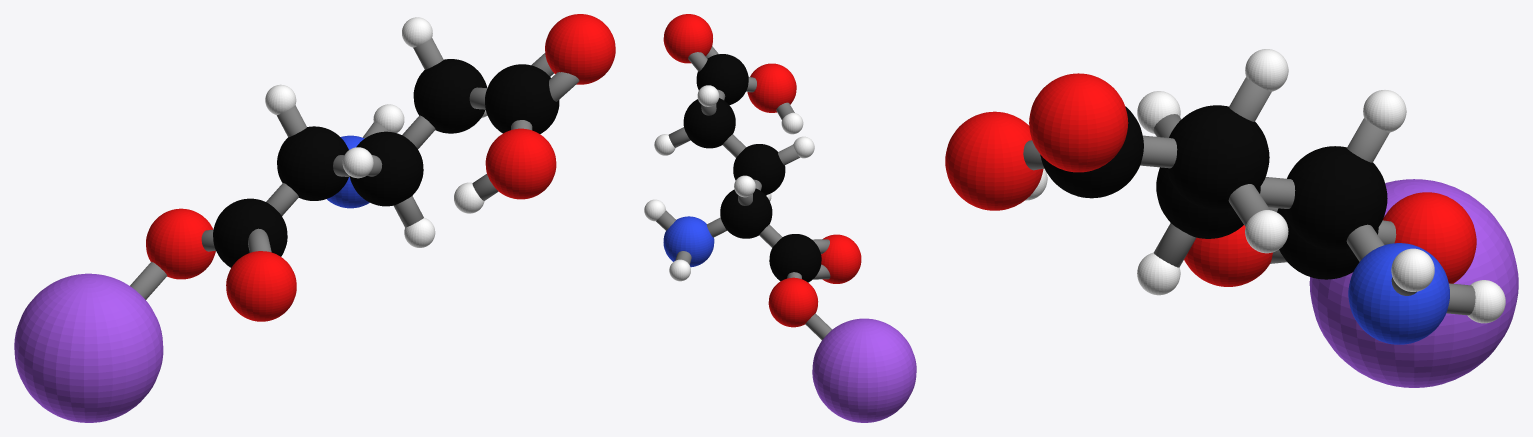
Rendered from GLUTAMATO MONOSODICO.obj.
3 renders of one model, left to right at view 1: azimuth 30°, elevation 25°; view 2: azimuth 150°, elevation 25°; view 3: azimuth 270°, elevation 25°, orthographic. The views are drawn at different scales.
Parts seen in each view (by area): view 1: Carbon_ball_Sphere.003, Sodium_ball_Sphere.004, Oxygen_ball_Sphere, Hydrogen_ball_Sphere.001, Nitrogen_ball_Sphere.002, Stick_Cylinder.008_Cylinder.008, Stick_Cylinder.010_Cylinder.010, Stick_Cylinder.019_Cylinder.019, Stick_Cylinder.007_Cylinder.007, Stick_Cylinder.012_Cylinder.012, Stick_Cylinder.015_Cylinder.015, Stick_Cylinder.017_Cylinder.017; view 2: Carbon_ball_Sphere.003, Sodium_ball_Sphere.004, Oxygen_ball_Sphere, Hydrogen_ball_Sphere.001, Nitrogen_ball_Sphere.002, Stick_Cylinder.008_Cylinder.008, Stick_Cylinder.010_Cylinder.010, Stick_Cylinder.007_Cylinder.007, Stick_Cylinder.016_Cylinder.016, Stick_Cylinder.011_Cylinder.011; view 3: Carbon_ball_Sphere.003, Oxygen_ball_Sphere, Sodium_ball_Sphere.004, Hydrogen_ball_Sphere.001, Nitrogen_ball_Sphere.002, Stick_Cylinder.012_Cylinder.012, Stick_Cylinder.015_Cylinder.015, Stick_Cylinder.017_Cylinder.017, Stick_Cylinder.014_Cylinder.014, Stick_Cylinder.016_Cylinder.016, Stick_Cylinder.013_Cylinder.013, Stick_Cylinder.003_Cylinder.003 (+1 smaller).
Part boxes in pixels (left/top/right/bottom): Carbon_ball_Sphere.003: left=213, top=59, right=559, bottom=267; Sodium_ball_Sphere.004: left=14, top=273, right=163, bottom=422; Oxygen_ball_Sphere: left=146, top=14, right=615, bottom=321; Hydrogen_ball_Sphere.001: left=265, top=17, right=487, bottom=247; Nitrogen_ball_Sphere.002: left=327, top=135, right=369, bottom=208; Stick_Cylinder.008_Cylinder.008: left=130, top=261, right=167, bottom=299; Stick_Cylinder.010_Cylinder.010: left=402, top=115, right=435, bottom=148; Stick_Cylinder.019_Cylinder.019: left=549, top=72, right=579, bottom=101; Stick_Cylinder.007_Cylinder.007: left=266, top=183, right=298, bottom=215; Stick_Cylinder.012_Cylinder.012: left=394, top=196, right=423, bottom=227; Stick_Cylinder.015_Cylinder.015: left=413, top=38, right=443, bottom=69; Stick_Cylinder.017_Cylinder.017: left=277, top=105, right=306, bottom=137; Carbon_ball_Sphere.003: left=683, top=54, right=821, bottom=282; Sodium_ball_Sphere.004: left=812, top=318, right=916, bottom=422; Oxygen_ball_Sphere: left=663, top=14, right=861, bottom=327; Hydrogen_ball_Sphere.001: left=644, top=85, right=814, bottom=281; Nitrogen_ball_Sphere.002: left=663, top=216, right=714, bottom=267; Stick_Cylinder.008_Cylinder.008: left=805, top=313, right=831, bottom=339; Stick_Cylinder.010_Cylinder.010: left=722, top=134, right=746, bottom=157; Stick_Cylinder.007_Cylinder.007: left=759, top=224, right=782, bottom=247; Stick_Cylinder.016_Cylinder.016: left=668, top=127, right=690, bottom=147; Stick_Cylinder.011_Cylinder.011: left=778, top=144, right=799, bottom=165; Carbon_ball_Sphere.003: left=1040, top=105, right=1387, bottom=279; Oxygen_ball_Sphere: left=945, top=73, right=1476, bottom=286; Sodium_ball_Sphere.004: left=1309, top=179, right=1518, bottom=387; Hydrogen_ball_Sphere.001: left=1025, top=49, right=1505, bottom=323; Nitrogen_ball_Sphere.002: left=1348, top=243, right=1449, bottom=344; Stick_Cylinder.012_Cylinder.012: left=1153, top=223, right=1196, bottom=267; Stick_Cylinder.015_Cylinder.015: left=1229, top=77, right=1271, bottom=121; Stick_Cylinder.017_Cylinder.017: left=1347, top=118, right=1389, bottom=162; Stick_Cylinder.014_Cylinder.014: left=1140, top=135, right=1177, bottom=168; Stick_Cylinder.016_Cylinder.016: left=1228, top=184, right=1269, bottom=226; Stick_Cylinder.013_Cylinder.013: left=1260, top=177, right=1295, bottom=208; Stick_Cylinder.003_Cylinder.003: left=1346, top=224, right=1384, bottom=261.
Bounding box in the file's own units: 10 × 8.1 × 7.6.
